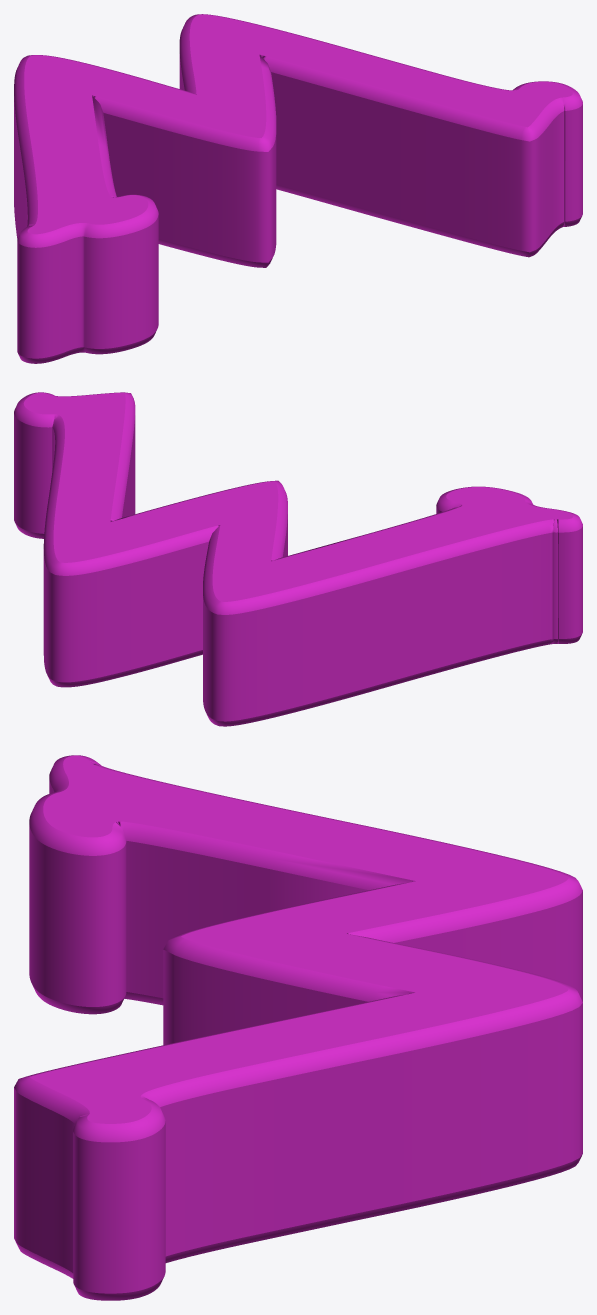
File: Letter_w_Small.fbx
3 renders of one model, top to bottom at view 1: azimuth 30°, elevation 25°; view 2: azimuth 150°, elevation 25°; view 3: azimuth 270°, elevation 25°, orthographic. The views are drawn at different scales.
Parts seen in each view (by area): view 1: Letter_w; view 2: Letter_w; view 3: Letter_w.
Part boxes in pixels (bbox=[...]): Letter_w: bbox=[14, 14, 582, 363]; Letter_w: bbox=[14, 392, 582, 726]; Letter_w: bbox=[14, 755, 582, 1300].
Size of the model in its own units: 0.6469 by 0.14 by 0.4094.
